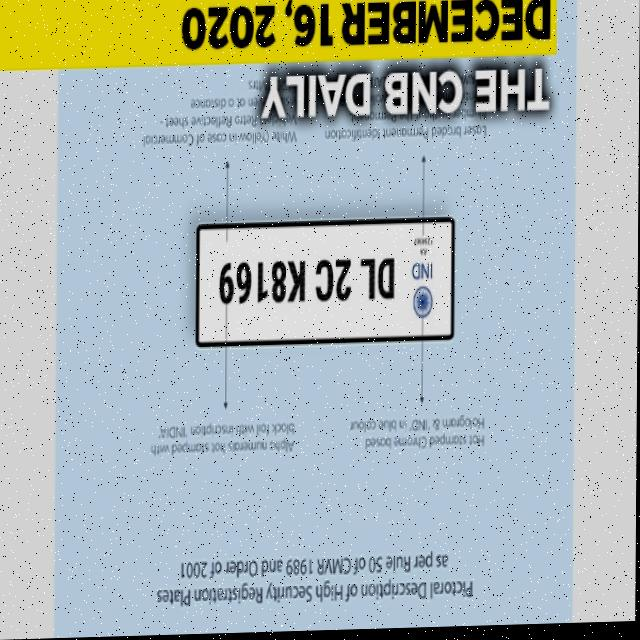plate: (196, 222, 455, 348)
